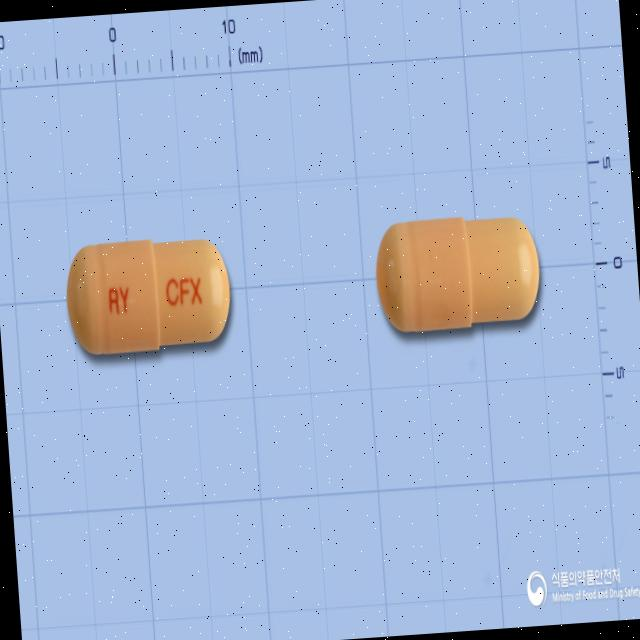Cefixime Cap- Reyon: (61, 223, 240, 365), (369, 202, 549, 340)
